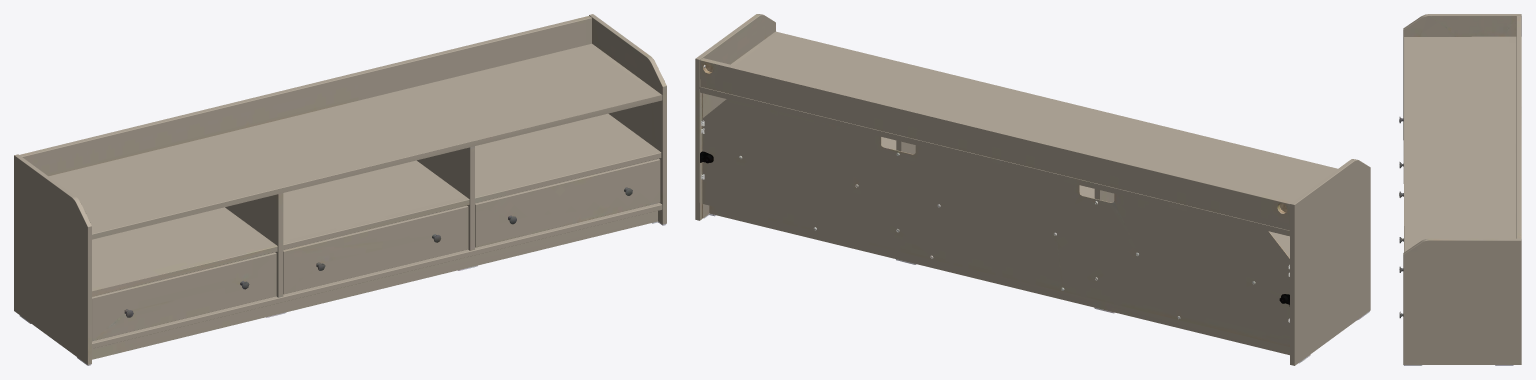
The picture shows the model from 3 angles, left to right: view 1: azimuth 30°, elevation 25°; view 2: azimuth 150°, elevation 25°; view 3: azimuth 270°, elevation 25°; orthographic projection. The views are drawn at different scales.
Visible parts, largest first — view 1: ASY_ART_70593381_S01_NV01; view 2: ASY_ART_70593381_S01_NV01; view 3: ASY_ART_70593381_S01_NV01.
Part boxes in pixels (<box>): ASY_ART_70593381_S01_NV01: <box>14,14,666,365</box>; ASY_ART_70593381_S01_NV01: <box>695,14,1370,365</box>; ASY_ART_70593381_S01_NV01: <box>1399,14,1521,365</box>.
Size of the model in its own units: 2.06 by 0.535 by 0.4704.
Materials: 1 (1 with a texture image).
